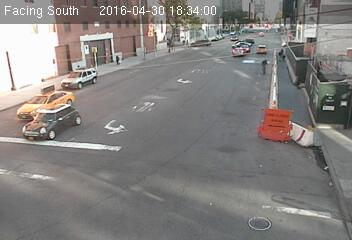neg: (184, 60, 203, 85), (95, 87, 112, 110), (256, 55, 271, 76)
pos: (278, 51, 290, 66), (112, 52, 122, 66), (278, 46, 283, 54)
